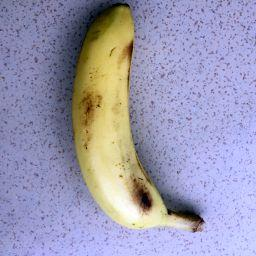Banana Ripe: (67, 0, 216, 235)
